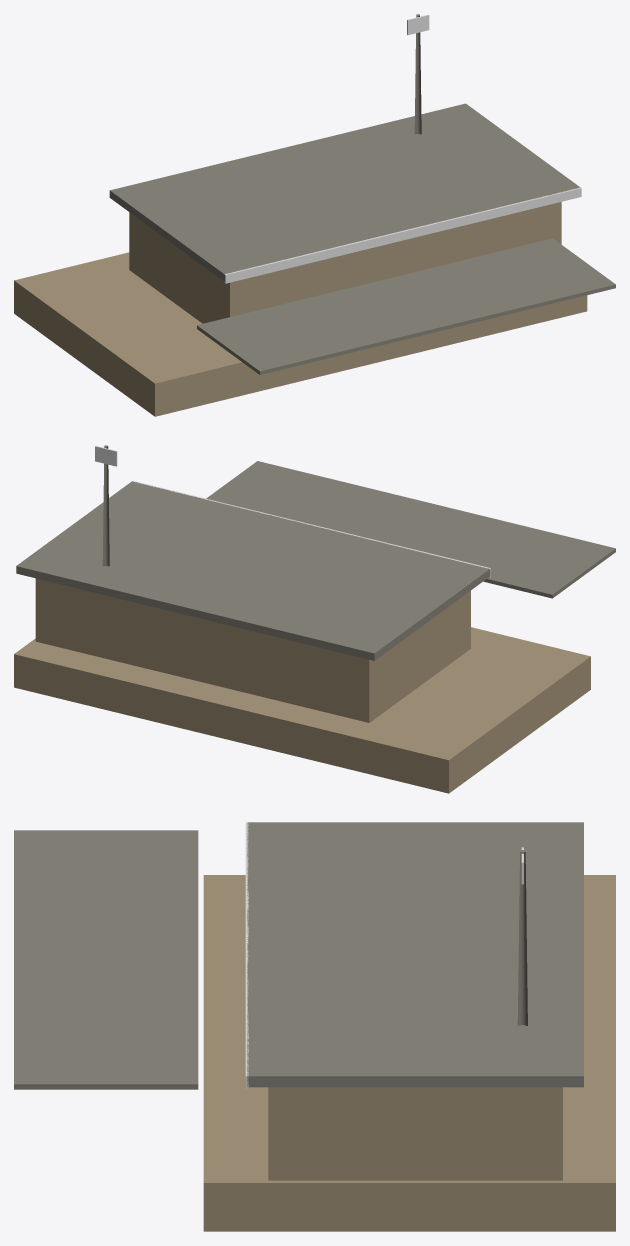
The picture shows the model from 3 angles, top to bottom: view 1: azimuth 30°, elevation 25°; view 2: azimuth 150°, elevation 25°; view 3: azimuth 270°, elevation 25°; orthographic projection. The views are drawn at different scales.
Visible parts, largest first — view 1: dweller_building_robotfactory; view 2: dweller_building_robotfactory; view 3: dweller_building_robotfactory.
Part boxes in pixels (bbox=[...]): dweller_building_robotfactory: bbox=[14, 14, 615, 416]; dweller_building_robotfactory: bbox=[14, 445, 615, 793]; dweller_building_robotfactory: bbox=[14, 822, 615, 1231].
Size of the model in its own units: 18.57 by 9.3 by 15.02.
